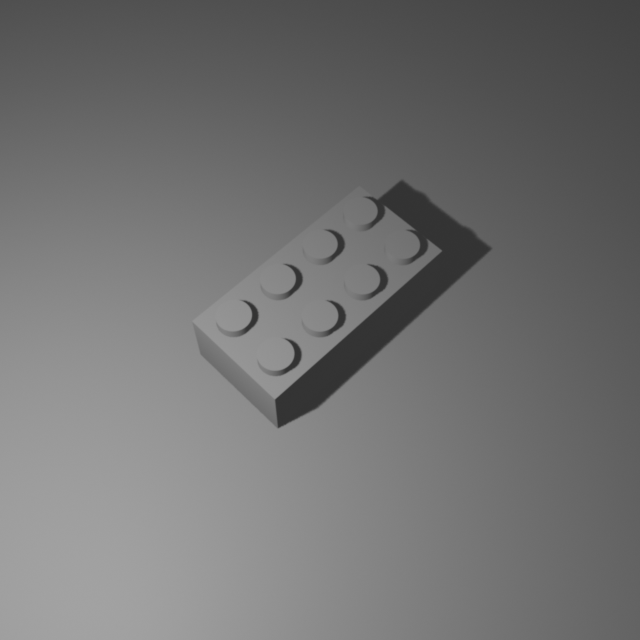lego_2x4: (190, 179, 444, 429)
